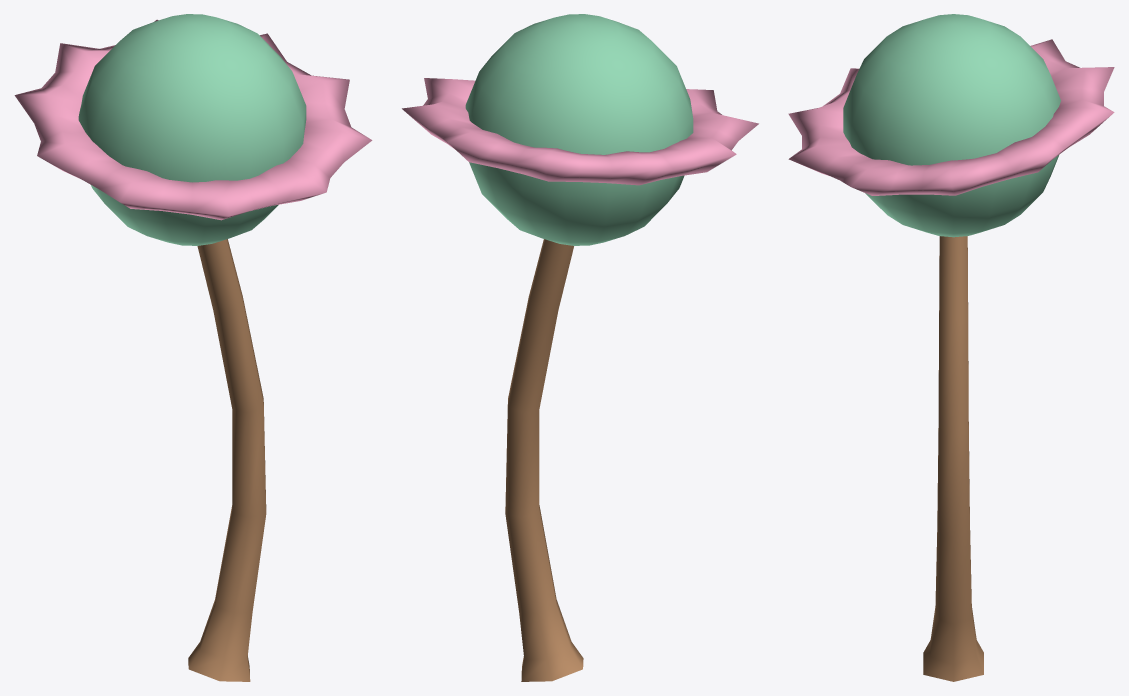
File: tree_lollipop.fbx
3 views of the same model, side by side, from view 1: azimuth 30°, elevation 25°; view 2: azimuth 150°, elevation 25°; view 3: azimuth 270°, elevation 25° (orthographic). The views are drawn at different scales.
Parts seen in each view (by area): view 1: tree_lollipop; view 2: tree_lollipop; view 3: tree_lollipop.
Boxes of the visible parts, x1,y1,x2,y2 form: tree_lollipop: [14, 14, 372, 681]; tree_lollipop: [402, 14, 758, 681]; tree_lollipop: [788, 14, 1114, 681].
Bounding box in the file's own units: 2.48 × 4.97 × 2.33.
